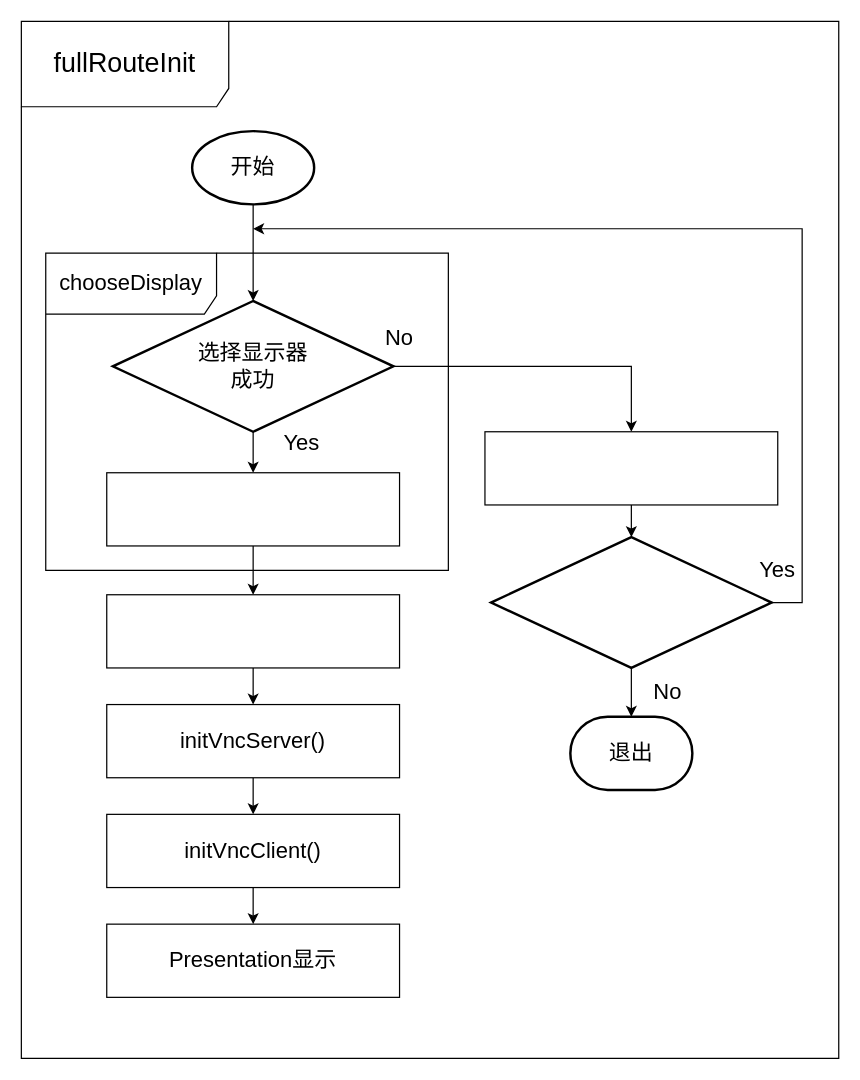
The diagram is 860 pixels wide and 1080 high, and some of its shapes have lost their labels. The box of each missing label's shape, as (x1, y1, x2, y2) in pixels:
显示进度对话框: (106, 594, 400, 668)
警告对话框显示: (484, 431, 778, 505)
计算VNC Server启动分辨率: (106, 472, 400, 546)
选择重试: (489, 535, 772, 669)
